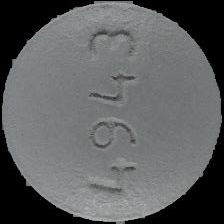58118-5063: (0, 0, 224, 224)
